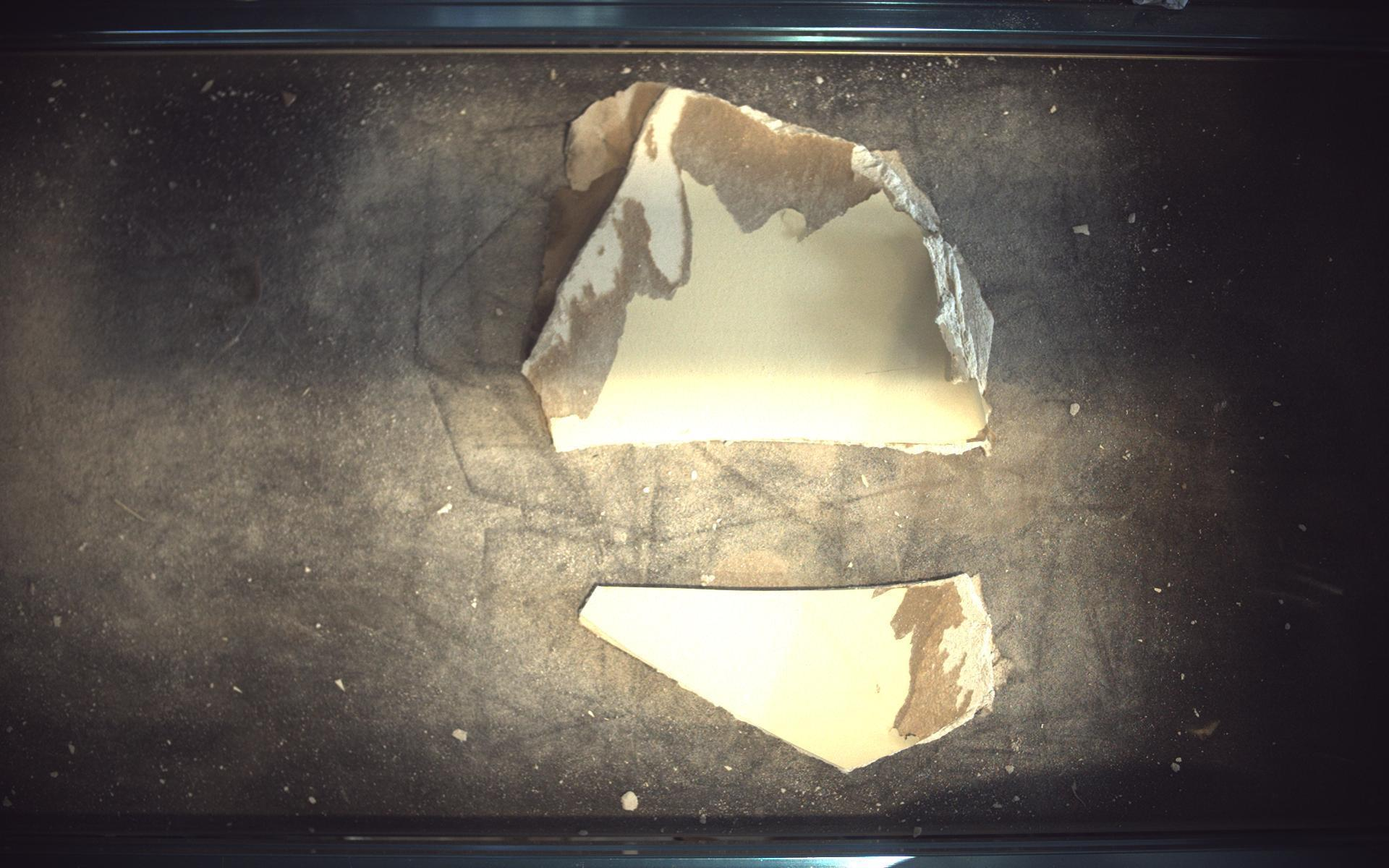gypsum_board: (523, 82, 995, 454), (580, 574, 1006, 773)
